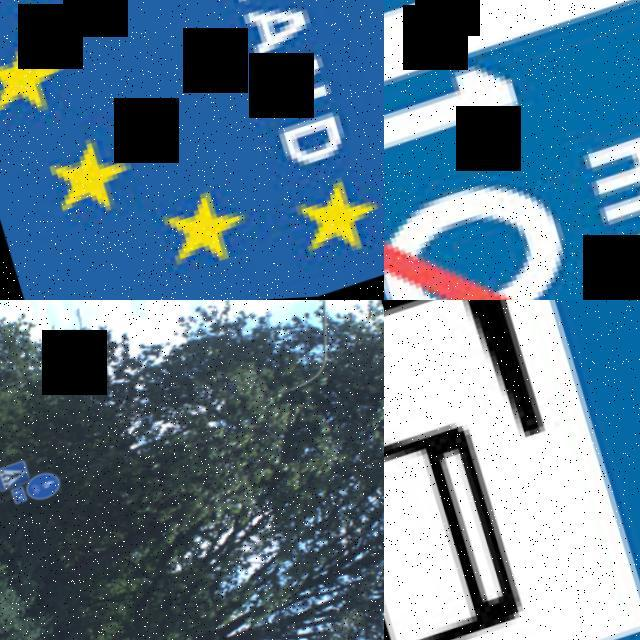103: (384, 0, 640, 300)
180: (0, 455, 32, 502)
91: (16, 468, 64, 511)
Bus stop: (384, 300, 640, 640)
National border: (0, 0, 384, 300)
